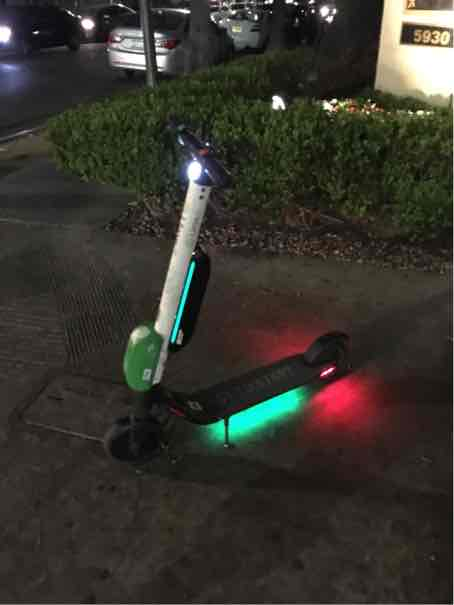scooter: (95, 110, 370, 470)
